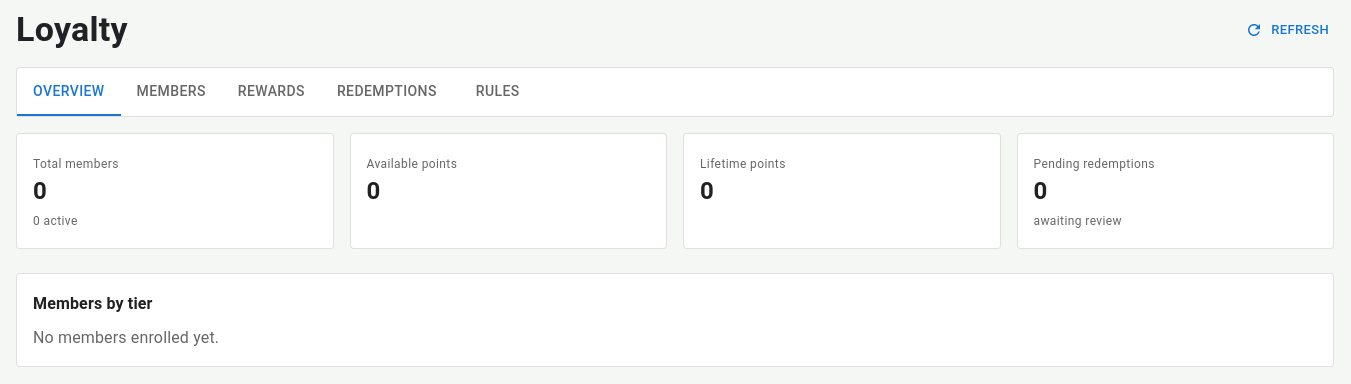
Test: LoyaltyPortal › shows the empty state when no members match
The image size is (1351, 384).
What coordinates should you click on to do the following:
click the tab "Members"
I would click on:
 (171, 92)
Its box is [121, 68, 222, 116].
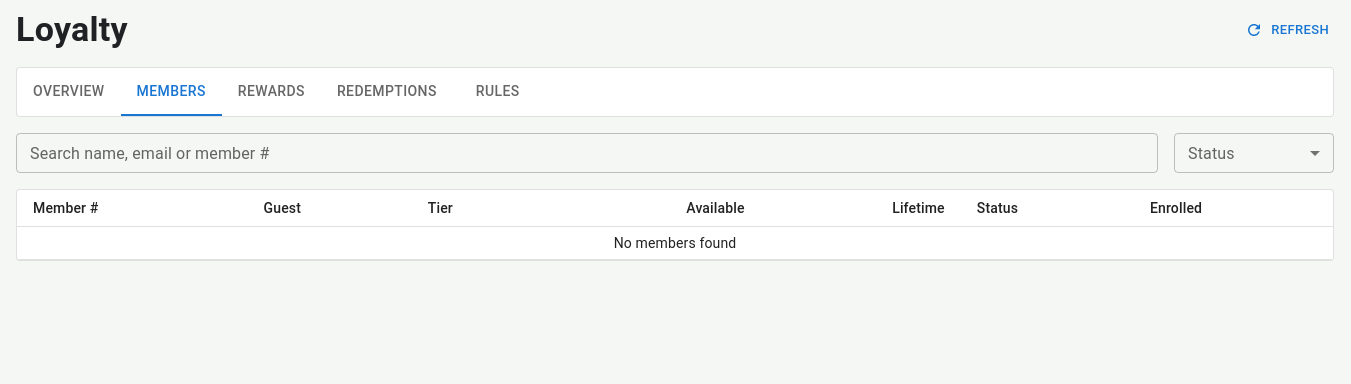
Expected: the text "No members found" is shown, [17, 226, 1333, 260]
